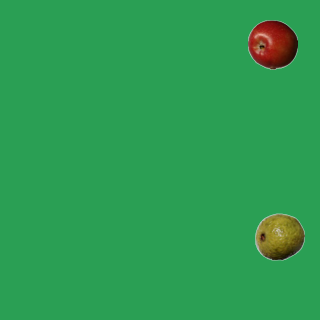Apple Braeburn: (247, 19, 297, 69)
Guava: (254, 211, 304, 261)
